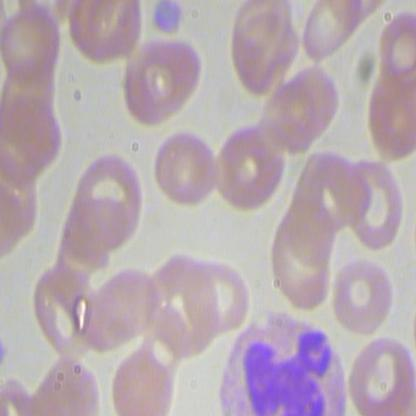Platelets: (151, 1, 183, 40)
RBC: (119, 35, 207, 135), (70, 146, 147, 247), (267, 205, 336, 312), (227, 1, 298, 96), (341, 151, 406, 253), (213, 124, 285, 214), (177, 254, 253, 338), (147, 122, 220, 208), (328, 252, 397, 341), (347, 335, 415, 415), (365, 62, 415, 163), (1, 1, 62, 81), (107, 348, 174, 415)
WBC: (214, 308, 352, 415)
